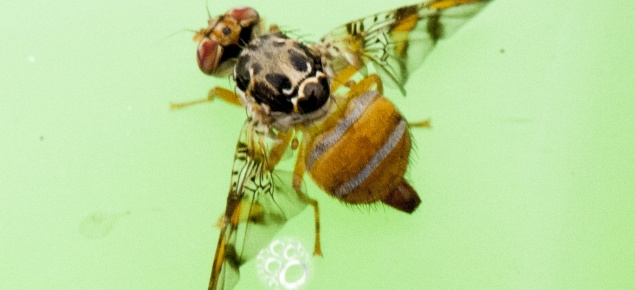Fruit fly: (171, 9, 479, 217)
